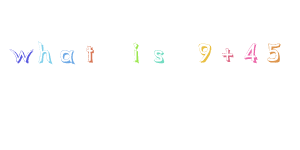+: (219, 46, 235, 64)
4: (242, 41, 258, 64)
5: (265, 42, 282, 63)
9: (197, 42, 212, 64)
a: (59, 48, 75, 64)
h: (38, 40, 52, 64)
i: (131, 42, 142, 63)
s: (152, 49, 165, 63)
t: (84, 45, 96, 63)
w: (9, 47, 33, 63)
